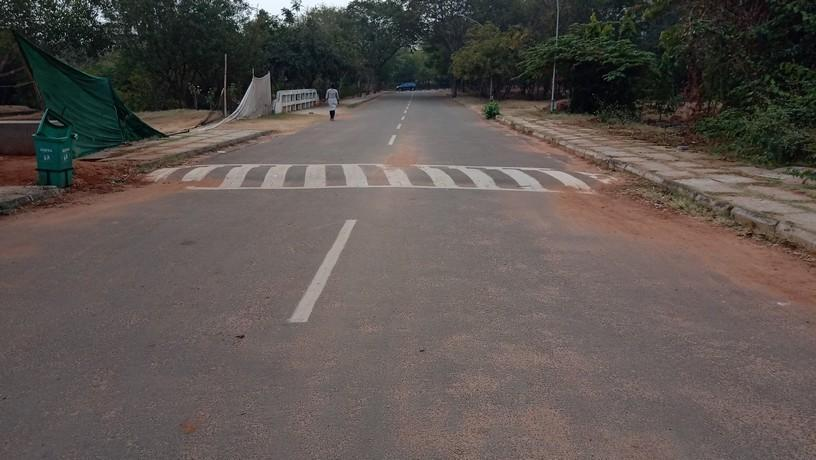speedbreaker: (135, 157, 662, 194)
